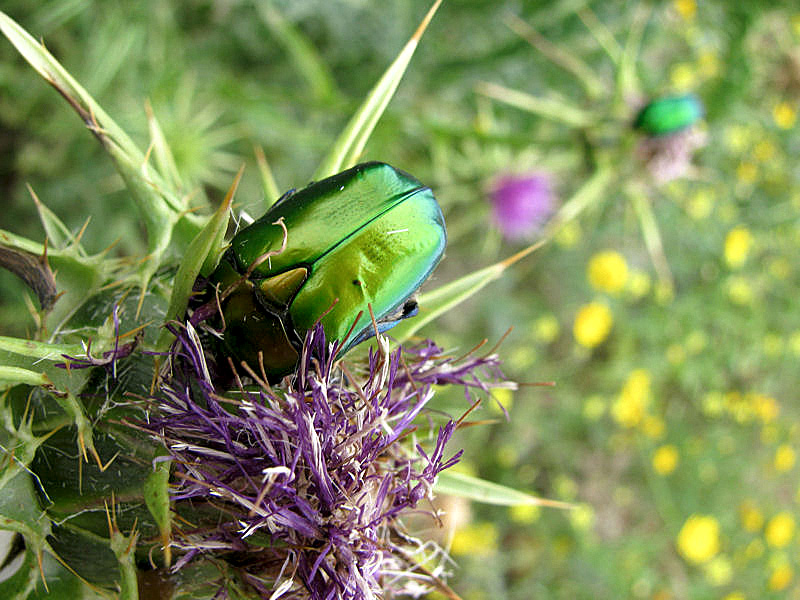Protaetia_cuprea_ignicollis: (189, 153, 455, 414)
